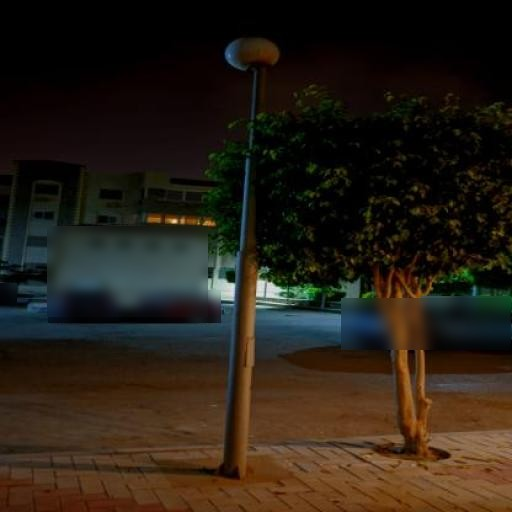apagada: (223, 36, 281, 73)
